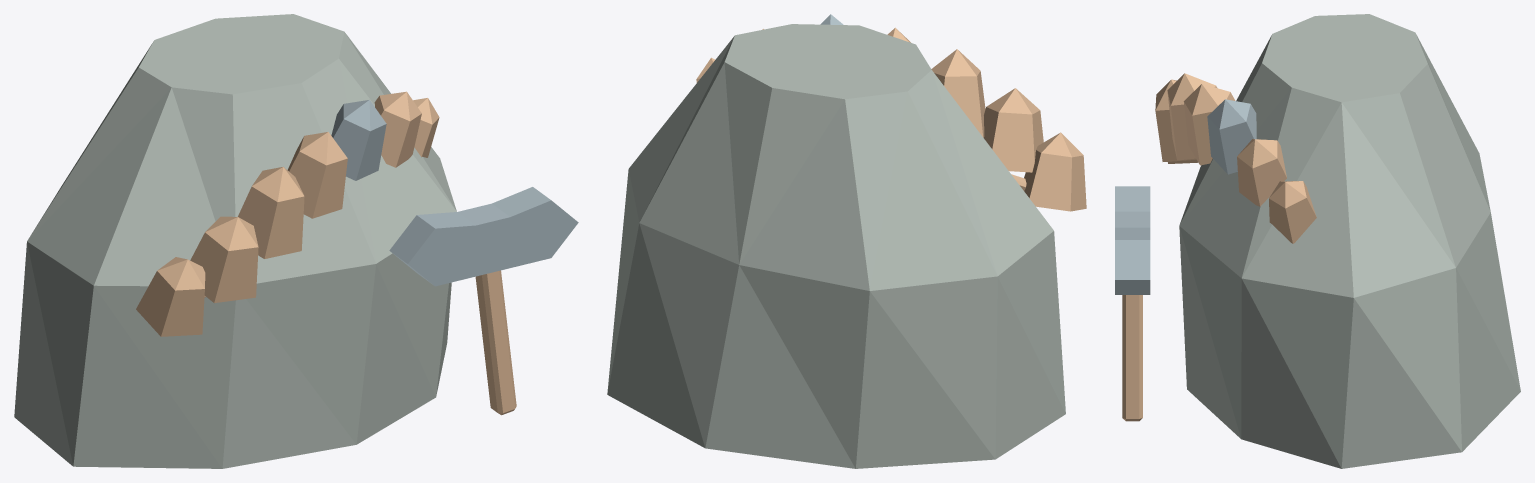
Rendered from world_ore_vein_a.fbx.
3 renders of one model, left to right at view 1: azimuth 30°, elevation 25°; view 2: azimuth 150°, elevation 25°; view 3: azimuth 270°, elevation 25°, orthographic. The views are drawn at different scales.
Visible parts, largest first — view 1: world_ore_vein_a_mesh; view 2: world_ore_vein_a_mesh; view 3: world_ore_vein_a_mesh.
Part boxes in pixels (x1,y1,x2,y2): world_ore_vein_a_mesh: (14,14,578,468); world_ore_vein_a_mesh: (607,14,1086,468); world_ore_vein_a_mesh: (1115,14,1520,468).
Bounding box in the file's own units: 0.834 × 0.64 × 0.7379.
